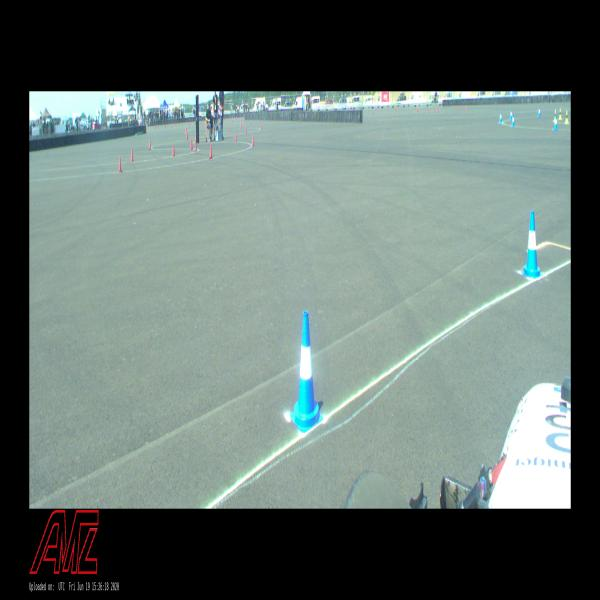blue_cone: (290, 310, 323, 434), (522, 211, 542, 280), (554, 115, 558, 130), (499, 112, 502, 123), (512, 114, 514, 126), (538, 107, 540, 117), (510, 109, 512, 119)
unknown_cone: (118, 157, 123, 174), (208, 145, 212, 159), (130, 149, 134, 163), (194, 140, 198, 152), (171, 145, 175, 156), (251, 133, 254, 146), (190, 138, 193, 150), (234, 131, 237, 143), (148, 140, 151, 150), (186, 131, 188, 140), (245, 126, 247, 133), (261, 122, 262, 130), (228, 125, 229, 132)
yellow_cone: (564, 111, 569, 123), (558, 108, 562, 120), (554, 110, 556, 121)
